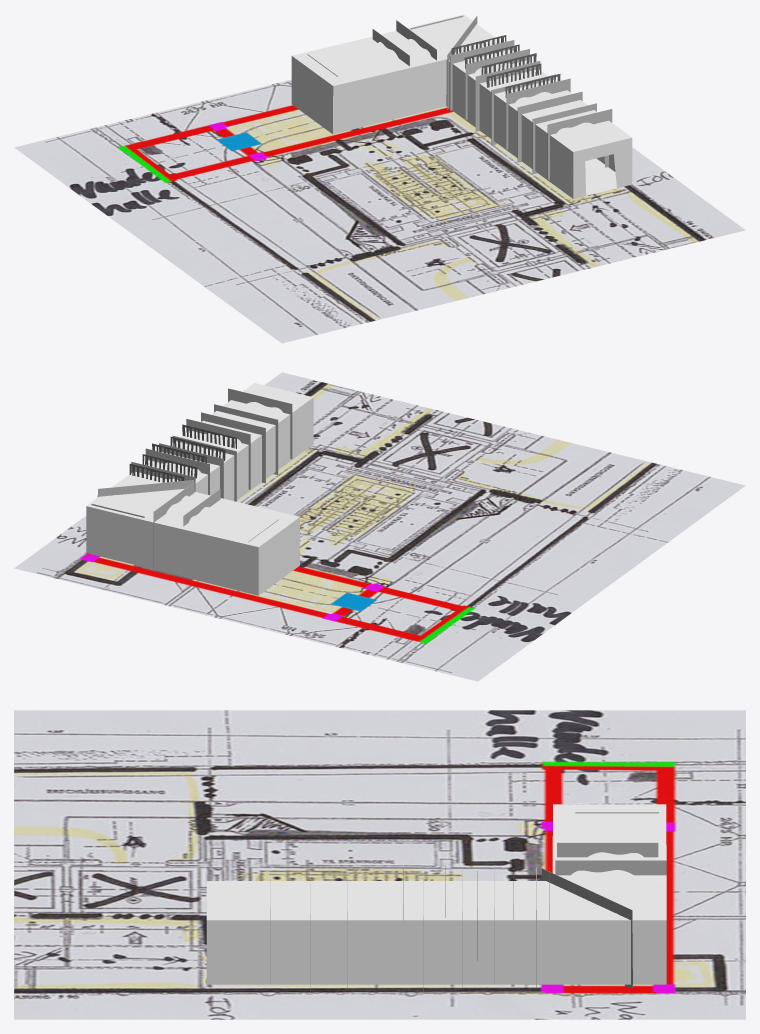
Rendered from Reizdarm Model.dae.
3 views of the same model, one above another, from view 1: azimuth 30°, elevation 25°; view 2: azimuth 150°, elevation 25°; view 3: azimuth 270°, elevation 25° (orthographic). The views are drawn at different scales.
Visible parts, largest first — view 1: Plan, Würfel, Schotten, Lotten; view 2: Plan, Würfel, Schotten, Lotten; view 3: Plan, Würfel, Schotten.
Part boxes in pixels (left/top/right/bottom): Plan: left=14, top=79, right=745, bottom=343; Würfel: left=291, top=14, right=632, bottom=198; Schotten: left=372, top=16, right=612, bottom=179; Lotten: left=451, top=35, right=560, bottom=97; Plan: left=14, top=372, right=745, bottom=681; Würfel: left=86, top=383, right=313, bottom=595; Schotten: left=97, top=388, right=292, bottom=567; Lotten: left=129, top=424, right=236, bottom=482; Plan: left=14, top=710, right=745, bottom=1019; Würfel: left=206, top=804, right=666, bottom=984; Schotten: left=270, top=842, right=666, bottom=992.
Bounding box in the file's own units: 3000 × 396 × 3000.
Materials: 7 (1 with a texture image).
